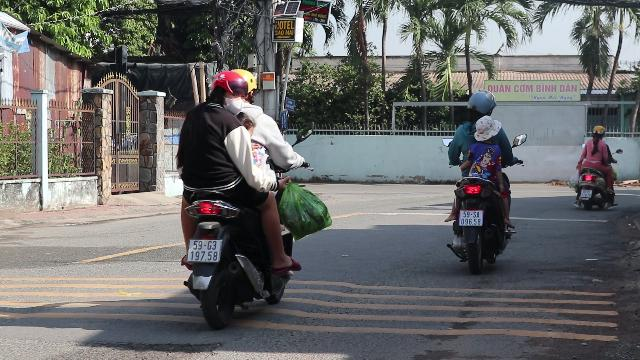helmet: (205, 69, 249, 113), (464, 90, 496, 122), (236, 69, 256, 101)
licenseplate: (188, 239, 220, 261), (460, 210, 482, 226)
motorcyclist: (169, 66, 331, 326), (441, 90, 519, 270)
nohelmet: (473, 115, 501, 141)
